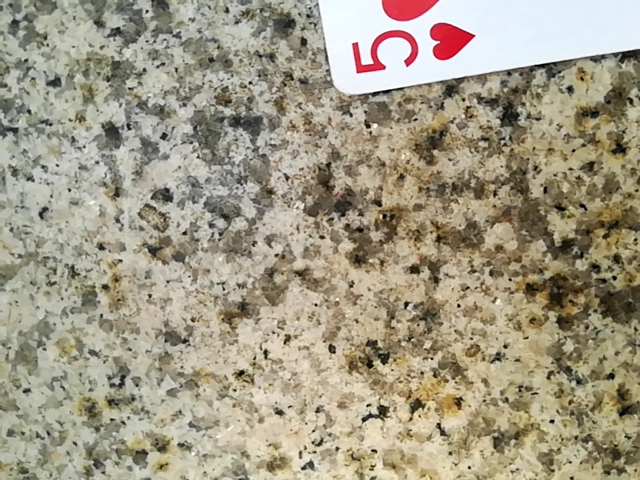hx 5: (271, 0, 640, 104)
